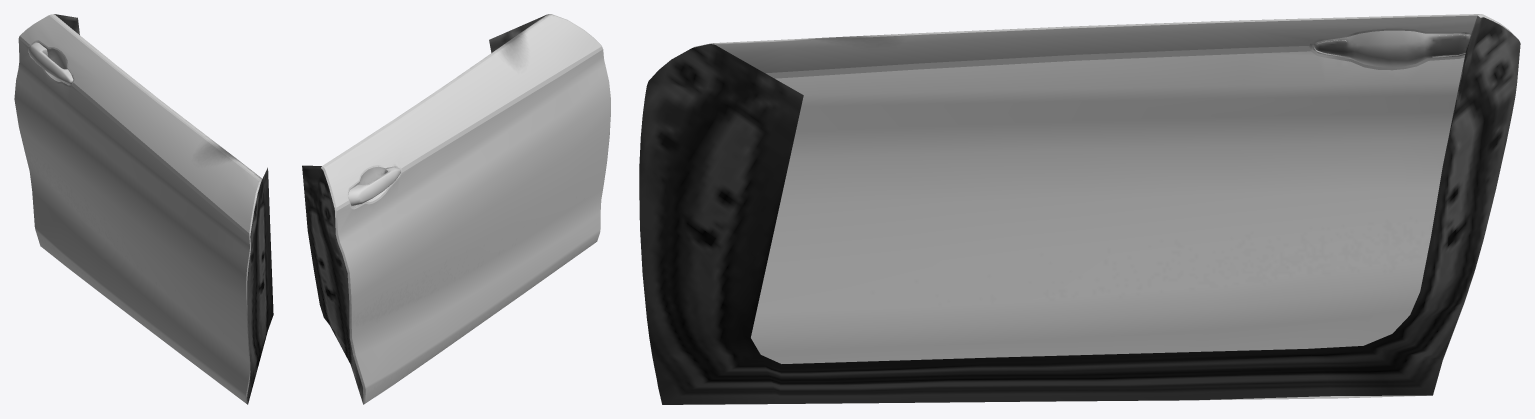
The model's file is M2passdoor.glb.
The picture shows the model from 3 angles, left to right: view 1: azimuth 30°, elevation 25°; view 2: azimuth 150°, elevation 25°; view 3: azimuth 270°, elevation 25°; orthographic projection. The views are drawn at different scales.
Visible parts, largest first — view 1: Object_70; view 2: Object_70; view 3: Object_70.
Part boxes in pixels (bbox=[...]): Object_70: bbox=[14, 14, 273, 404]; Object_70: bbox=[302, 14, 610, 404]; Object_70: bbox=[639, 14, 1520, 404].
Bounding box in the file's own units: 0.217 × 0.6954 × 1.34.
1 material, 1 textured.
